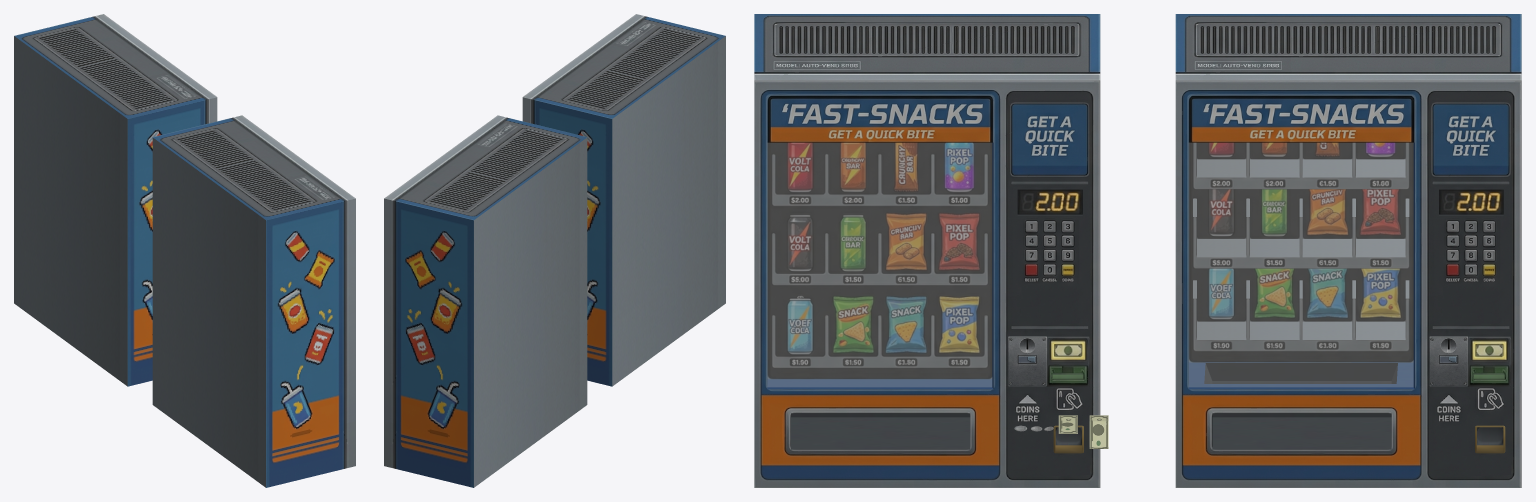
File: simple_vendine_machine.glb
3 views of the same model, side by side, from view 1: azimuth 30°, elevation 25°; view 2: azimuth 150°, elevation 25°; view 3: azimuth 270°, elevation 25° (orthographic). The views are drawn at different scales.
Parts seen in each view (by area): view 1: Vend.Simple, Vend.MoreDetailed; view 2: Vend.MoreDetailed, Vend.Simple; view 3: Vend.MoreDetailed, Vend.Simple.
Boxes of the visible parts, x1=… form: Vend.Simple: x1=152, y1=115, x2=355, y2=487; Vend.MoreDetailed: x1=14, y1=14, x2=217, y2=386; Vend.MoreDetailed: x1=384, y1=115, x2=587, y2=487; Vend.Simple: x1=522, y1=14, x2=725, y2=386; Vend.MoreDetailed: x1=1175, y1=14, x2=1521, y2=487; Vend.Simple: x1=754, y1=14, x2=1100, y2=487.
Size of the model in its own units: 3.5 by 5.39 by 9.19.
4 materials, 3 textured.
